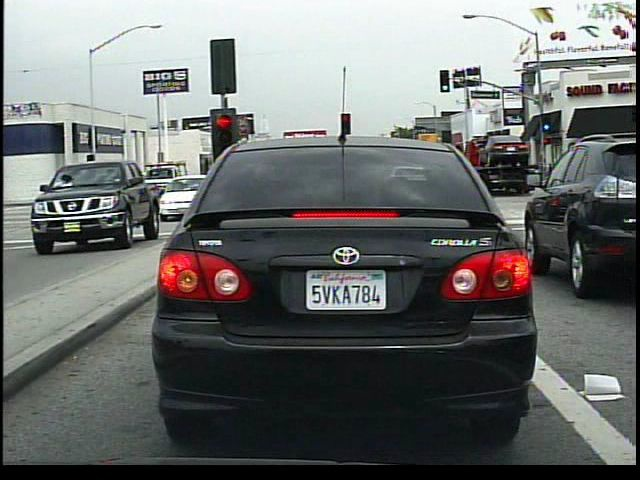person: (173, 168, 195, 194)
